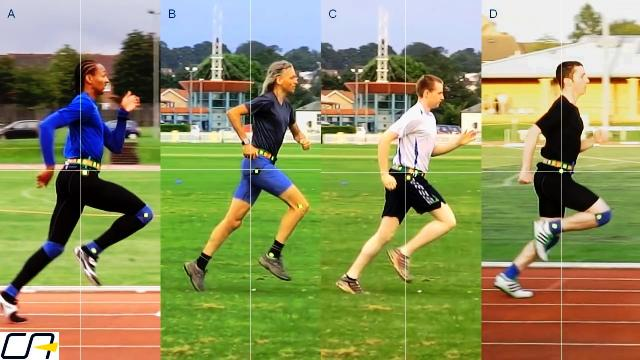berlari: (3, 52, 152, 318), (179, 53, 315, 294), (334, 70, 468, 307), (495, 57, 613, 310)
